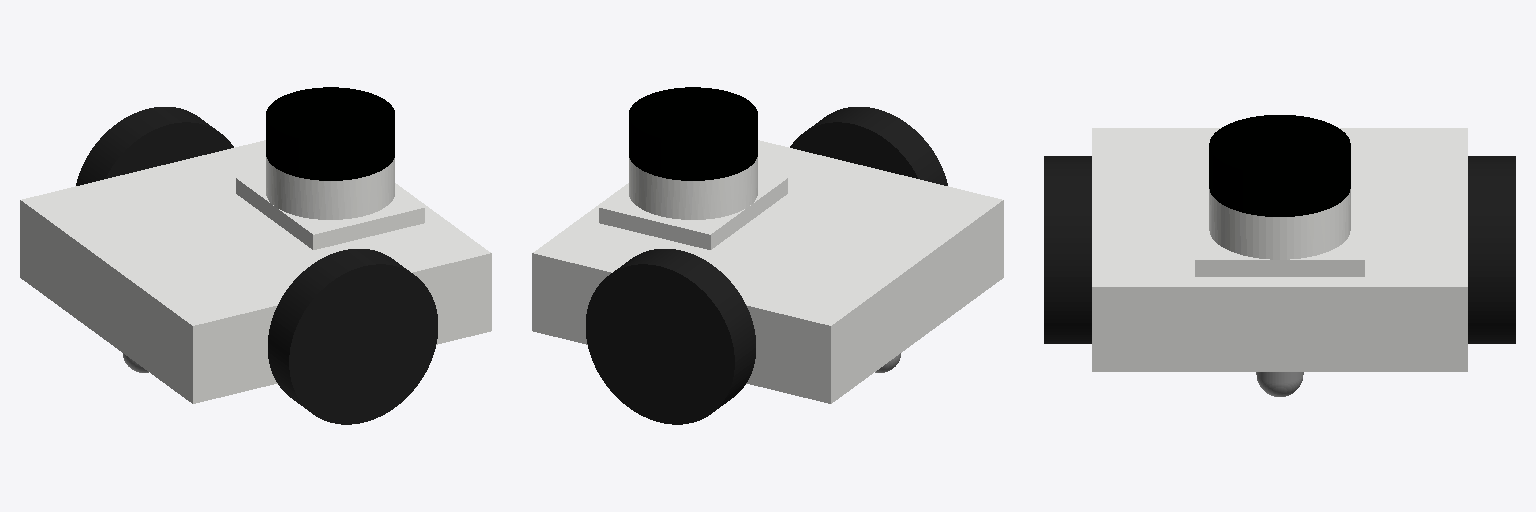
The robot description file, URDF, robot "basic":
<?xml version="1.0" ?>
<robot name="basic">
  <material name="ABS(흰색)">
    <color rgba="0.965 0.965 0.953 1.0"/>
  </material>
  <material name="고무-연질">
    <color rgba="0.153 0.153 0.153 1.0"/>
  </material>
  <material name="HJ_b">
    <color rgba="0.0 0.004 0.0 1.0"/>
  </material>
  <material name="강철-새틴">
    <color rgba="0.627 0.627 0.627 1.0"/>
  </material>

  <transmission name="right_wheel_joint_tran">
    <type>transmission_interface/SimpleTransmission</type>
    <joint name="right_wheel_joint">
      <hardwareInterface>hardware_interface/EffortJointInterface</hardwareInterface>
    </joint>
    <actuator name="right_wheel_joint_actr">
      <hardwareInterface>hardware_interface/EffortJointInterface</hardwareInterface>
      <mechanicalReduction>1</mechanicalReduction>
    </actuator>
  </transmission>
  
  <transmission name="left_wheel_joint_tran">
    <type>transmission_interface/SimpleTransmission</type>
    <joint name="left_wheel_joint">
      <hardwareInterface>hardware_interface/EffortJointInterface</hardwareInterface>
    </joint>
    <actuator name="left_wheel_joint_actr">
      <hardwareInterface>hardware_interface/EffortJointInterface</hardwareInterface>
      <mechanicalReduction>1</mechanicalReduction>
    </actuator>
  </transmission>
  
  <link name="base_link">
    <inertial>
      <origin xyz="0.004085192340368757 1.670370971974307e-17 0.05333856405787093" rpy="0 0 0"/>
      <mass value="2.308623413731432"/>
      <inertia ixx="0.007907" iyy="0.008326" izz="0.014731" ixy="0.0" iyz="0.0" ixz="-0.000354"/>
    </inertial>
    <visual>
      <origin xyz="0 0 0" rpy="0 0 0"/>
      <geometry>
        <mesh filename="meshes/base_link.stl" scale="0.001 0.001 0.001"/>
      </geometry>
      <material name="ABS(흰색)"/>
    </visual>
    <collision>
      <origin xyz="0 0 0" rpy="0 0 0"/>
      <geometry>
        <mesh filename="meshes/base_link.stl" scale="0.001 0.001 0.001"/>
      </geometry>
    </collision>
  </link>
  
  <link name="right_wheel_1">
    <inertial>
      <origin xyz="-8.396061623727748e-18 -0.012499999999999997 0.0" rpy="0 0 0"/>
      <mass value="0.1826050729899067"/>
      <inertia ixx="0.000124" iyy="0.000228" izz="0.000124" ixy="0.0" iyz="0.0" ixz="-0.0"/>
    </inertial>
    <visual>
      <origin xyz="-0.0 0.1 -0.05" rpy="0 0 0"/>
      <geometry>
        <mesh filename="meshes/right_wheel_1.stl" scale="0.001 0.001 0.001"/>
      </geometry>
      <material name="고무-연질"/>
    </visual>
    <collision>
      <origin xyz="-0.0 0.1 -0.05" rpy="0 0 0"/>
      <geometry>
        <mesh filename="meshes/right_wheel_1.stl" scale="0.001 0.001 0.001"/>
      </geometry>
    </collision>
  </link>
  
  <link name="left_wheel_1">
    <inertial>
      <origin xyz="-8.396061623727748e-18 0.012499999999999997 0.0" rpy="0 0 0"/>
      <mass value="0.1826050729899067"/>
      <inertia ixx="0.000124" iyy="0.000228" izz="0.000124" ixy="-0.0" iyz="0.0" ixz="-0.0"/>
    </inertial>
    <visual>
      <origin xyz="-0.0 -0.1 -0.05" rpy="0 0 0"/>
      <geometry>
        <mesh filename="meshes/left_wheel_1.stl" scale="0.001 0.001 0.001"/>
      </geometry>
      <material name="고무-연질"/>
    </visual>
    <collision>
      <origin xyz="-0.0 -0.1 -0.05" rpy="0 0 0"/>
      <geometry>
        <mesh filename="meshes/left_wheel_1.stl" scale="0.001 0.001 0.001"/>
      </geometry>
    </collision>
  </link>
  
  <link name="lidar_1">
    <inertial>
      <origin xyz="-1.3877787807814457e-17 0.0 0.012500000000000011" rpy="0 0 0"/>
      <mass value="0.2043262409463674"/>
      <inertia ixx="8.2e-05" iyy="8.2e-05" izz="0.000144" ixy="-0.0" iyz="0.0" ixz="0.0"/>
    </inertial>
    <visual>
      <origin xyz="-0.05 -0.0 -0.11" rpy="0 0 0"/>
      <geometry>
        <mesh filename="meshes/lidar_1.stl" scale="0.001 0.001 0.001"/>
      </geometry>
      <material name="HJ_b"/>
    </visual>
    <collision>
      <origin xyz="-0.05 -0.0 -0.11" rpy="0 0 0"/>
      <geometry>
        <mesh filename="meshes/lidar_1.stl" scale="0.001 0.001 0.001"/>
      </geometry>
    </collision>
  </link>
  
  <link name="support_1">
    <inertial>
      <origin xyz="4.1489019029536826e-17 1.7370069300366082e-18 -0.01062499999999996" rpy="0 0 0"/>
      <mass value="0.16055665579869713"/>
      <inertia ixx="1.2e-05" iyy="0.000915" izz="0.000915" ixy="-0.0" iyz="0.0" ixz="-0.0"/>
    </inertial>
    <visual>
      <origin xyz="-0.0 -0.0 -0.025" rpy="0 0 0"/>
      <geometry>
        <mesh filename="meshes/support_1.stl" scale="0.001 0.001 0.001"/>
      </geometry>
      <material name="강철-새틴"/>
    </visual>
    <collision>
      <origin xyz="-0.0 -0.0 -0.025" rpy="0 0 0"/>
      <geometry>
        <mesh filename="meshes/support_1.stl" scale="0.001 0.001 0.001"/>
      </geometry>
    </collision>
  </link>
  
  <joint name="right_wheel_joint" type="continuous">
    <origin xyz="0.0 -0.1 0.05" rpy="0 0 0"/>
    <parent link="base_link"/>
    <child link="right_wheel_1"/>
    <axis xyz="0.0 -1.0 0.0"/>
  </joint>
  
  <joint name="left_wheel_joint" type="continuous">
    <origin xyz="0.0 0.1 0.05" rpy="0 0 0"/>
    <parent link="base_link"/>
    <child link="left_wheel_1"/>
    <axis xyz="0.0 1.0 0.0"/>
  </joint>
  
  <joint name="lidar_joint" type="fixed">
    <origin xyz="0.05 0.0 0.11" rpy="0 0 0"/>
    <parent link="base_link"/>
    <child link="lidar_1"/>
  </joint>
  
  <joint name="support_joint" type="fixed">
    <origin xyz="0.0 0.0 0.025" rpy="0 0 0"/>
    <parent link="base_link"/>
    <child link="support_1"/>
  </joint>
  
</robot>

--- Render facts (derived) ---
Views: 3 orthographic renders of the robot side by side, from view 1: azimuth 30°, elevation 25°; view 2: azimuth 150°, elevation 25°; view 3: azimuth 270°, elevation 25°.
Model basic with 5 links and 4 joints (2 continuous, 2 fixed), rooted at base_link, posed all joints at 0.
Visible links, largest first — view 1: base_link, right_wheel_1, lidar_1, left_wheel_1; view 2: base_link, left_wheel_1, lidar_1, right_wheel_1; view 3: base_link, lidar_1, right_wheel_1, left_wheel_1, support_1.
Link boxes in pixels (box(x1,y1,x2,y2)): base_link: box(20, 140, 491, 403); right_wheel_1: box(268, 249, 437, 424); lidar_1: box(266, 87, 394, 180); left_wheel_1: box(76, 107, 233, 185); base_link: box(532, 140, 1003, 403); left_wheel_1: box(586, 249, 755, 424); lidar_1: box(629, 87, 757, 180); right_wheel_1: box(790, 107, 947, 185); base_link: box(1092, 128, 1467, 371); lidar_1: box(1209, 115, 1350, 216); right_wheel_1: box(1044, 156, 1091, 343); left_wheel_1: box(1468, 156, 1515, 343); support_1: box(1256, 372, 1303, 396).
Bounding box of the posed robot: 0.2 × 0.25 × 0.135 m (x, y, z).
Meshes: 5 distinct files referenced, 5 mesh visuals loaded (5 binary STL).
